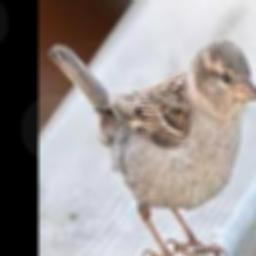Sparrow: (48, 38, 256, 256)
